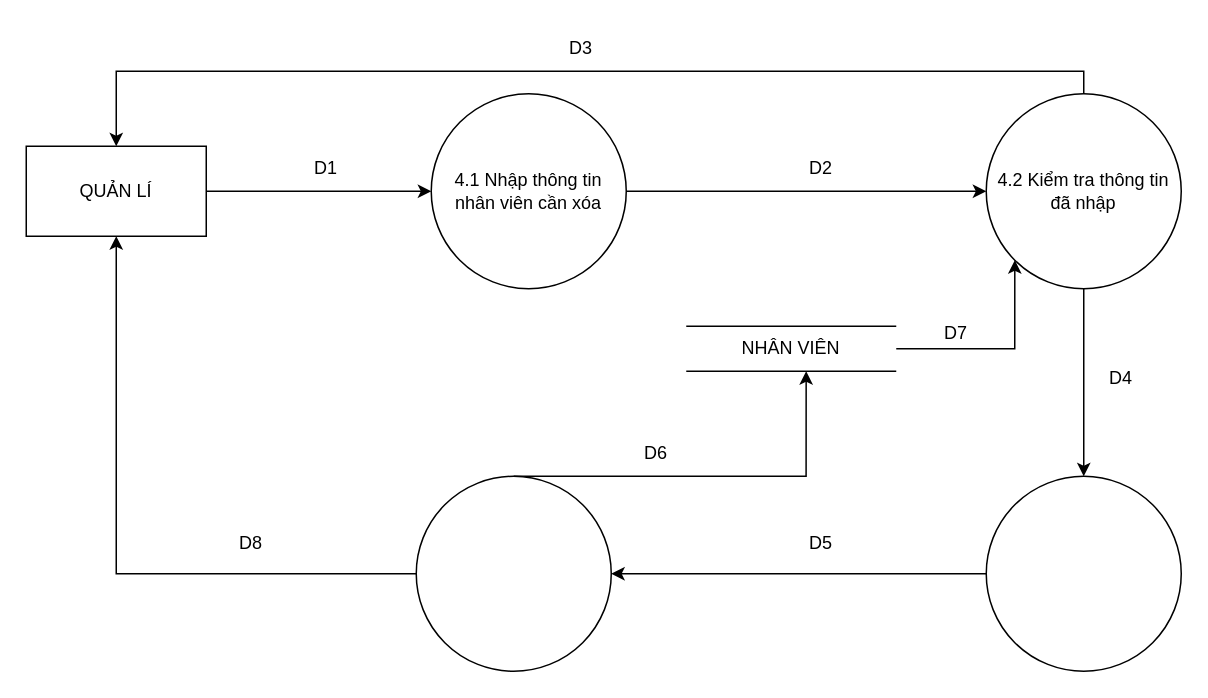
This 1208x698 diagram has some shape labels left out. The centre of each missing label's shape, as x and y in pixels:
4.3 Xử lí thông tin đã nhập: pixel 1083 573
4.4 Cập nhật thông tin: pixel 513 573
